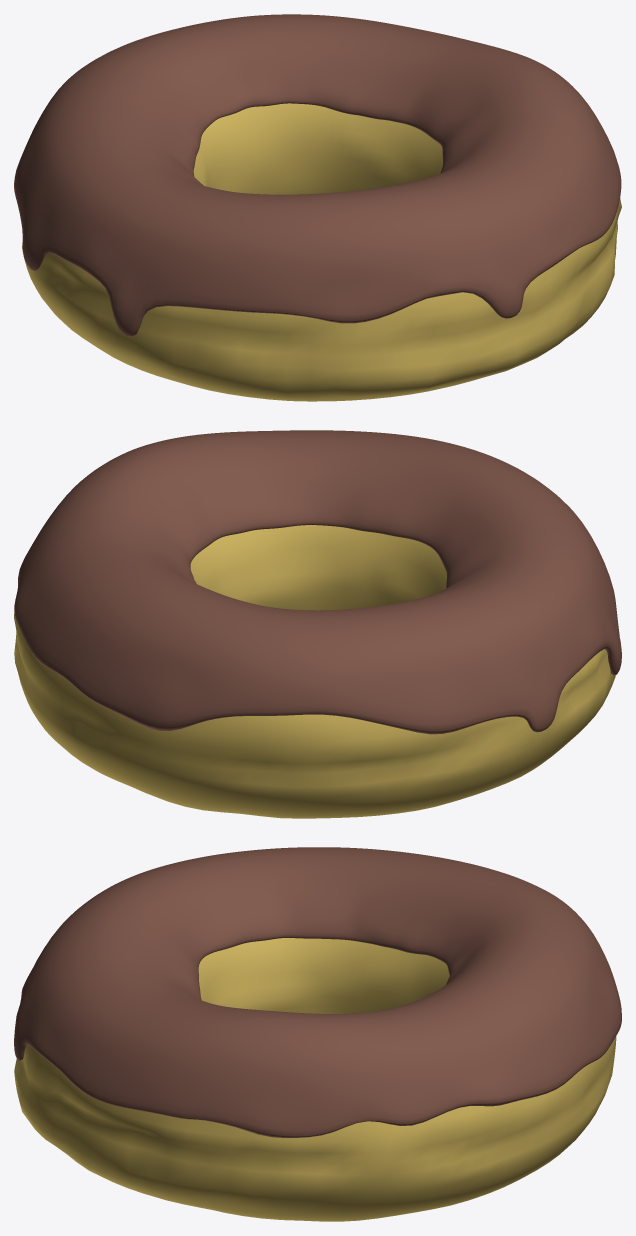
File: donut.fbx
3 views of the same model, one above another, from view 1: azimuth 30°, elevation 25°; view 2: azimuth 150°, elevation 25°; view 3: azimuth 270°, elevation 25° (orthographic). The views are drawn at different scales.
Parts seen in each view (by area): view 1: Frosting.004, Donut.004; view 2: Frosting.004, Donut.004; view 3: Frosting.004, Donut.004.
Part boxes in pixels (left/top/right/bottom): Frosting.004: left=14, top=14, right=621, bottom=336; Donut.004: left=22, top=103, right=621, bottom=401; Frosting.004: left=14, top=430, right=621, bottom=734; Donut.004: left=14, top=525, right=615, bottom=818; Frosting.004: left=14, top=847, right=621, bottom=1137; Donut.004: left=14, top=938, right=616, bottom=1221.
Bounding box in the file's own units: 14.4 × 5.35 × 14.75.
